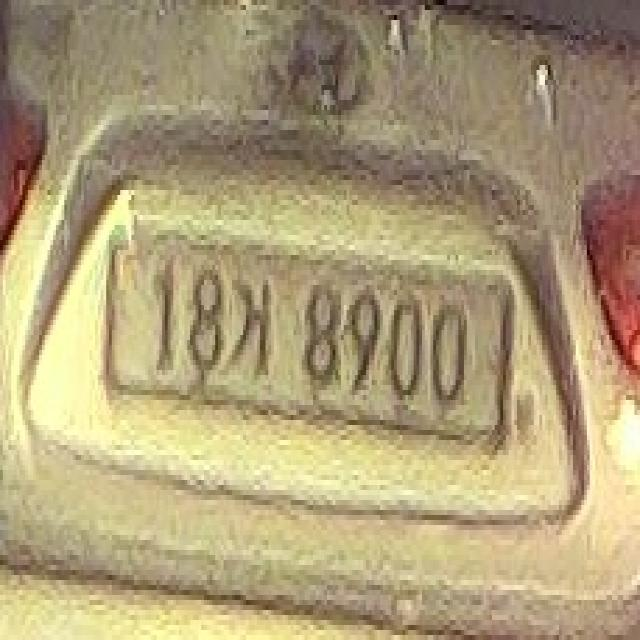0: (425, 290, 472, 425), (386, 285, 424, 415)
1: (142, 250, 179, 390)
8: (184, 255, 227, 390), (302, 270, 344, 400)
9: (346, 275, 386, 415)
geo: (226, 270, 274, 390)
license_plate: (98, 215, 517, 465)
